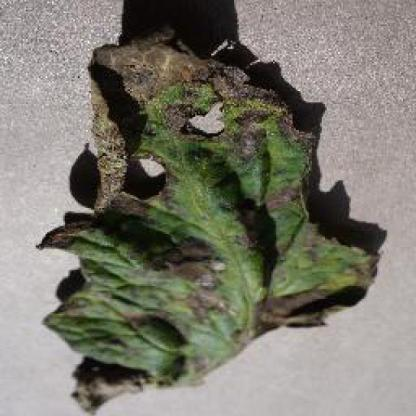Tomato_Blight: (38, 25, 381, 412)
